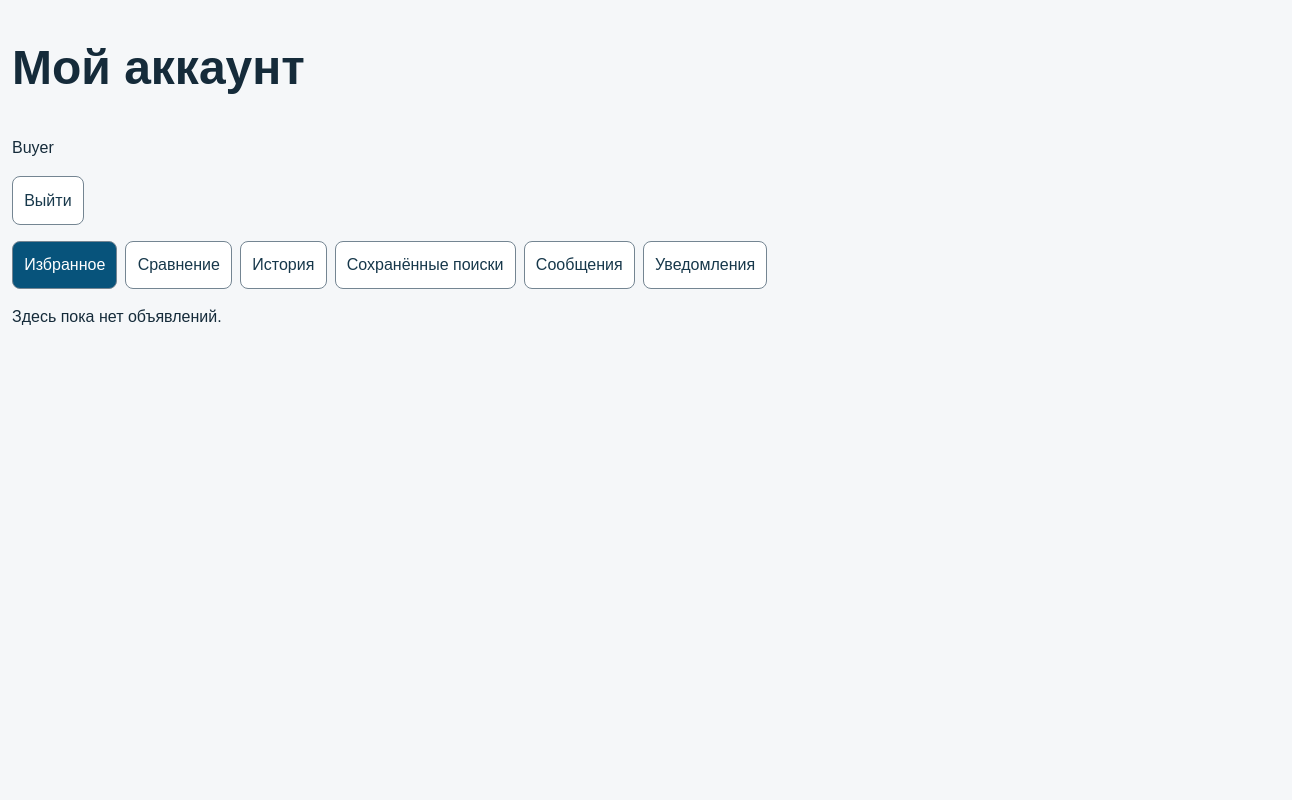
Test: Selected thread pagination appends older messages and consumes its cursor
The image size is (1292, 800).
Expected: the text "Buyer" is shown, [12, 139, 54, 156]
Click the button "Сообщения". click: (579, 265)
box: [524, 241, 635, 289]
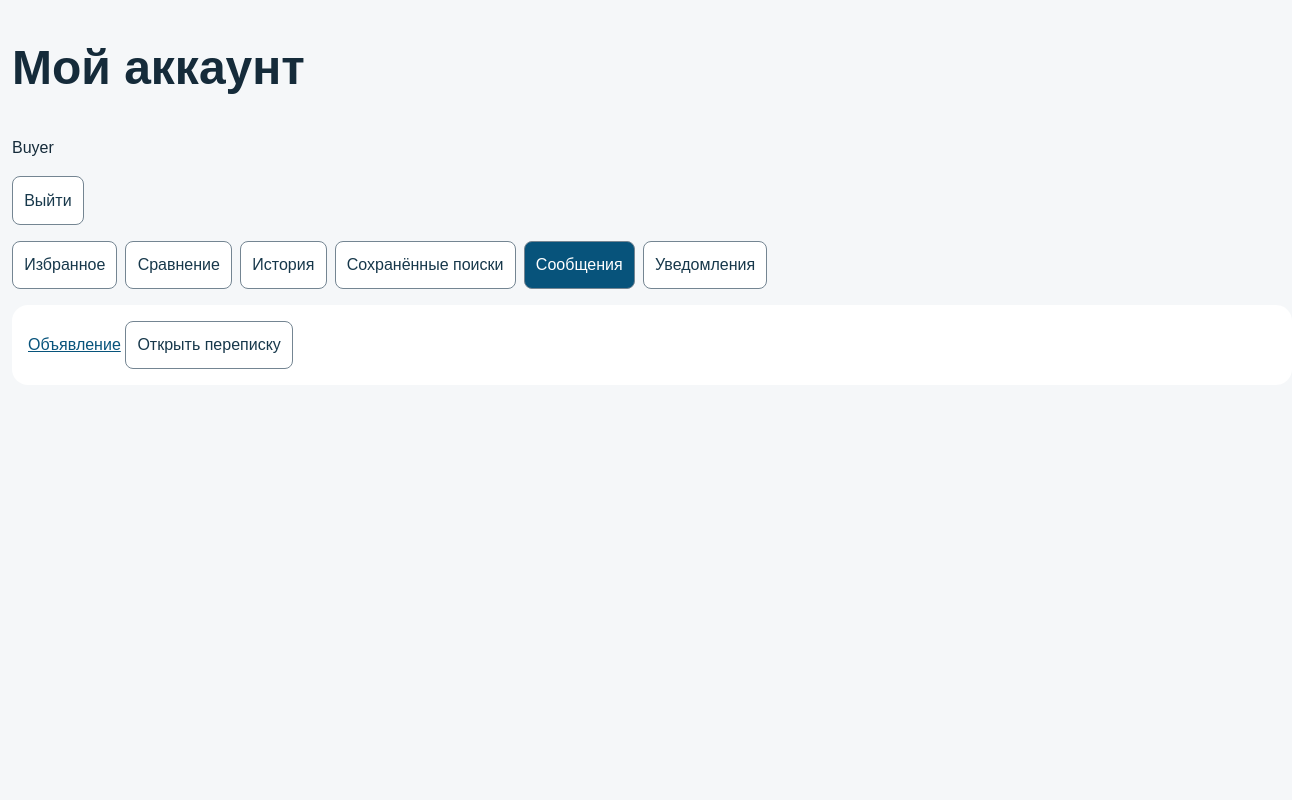
Click the button "Открыть переписку". click: (209, 345)
box: [125, 321, 293, 370]
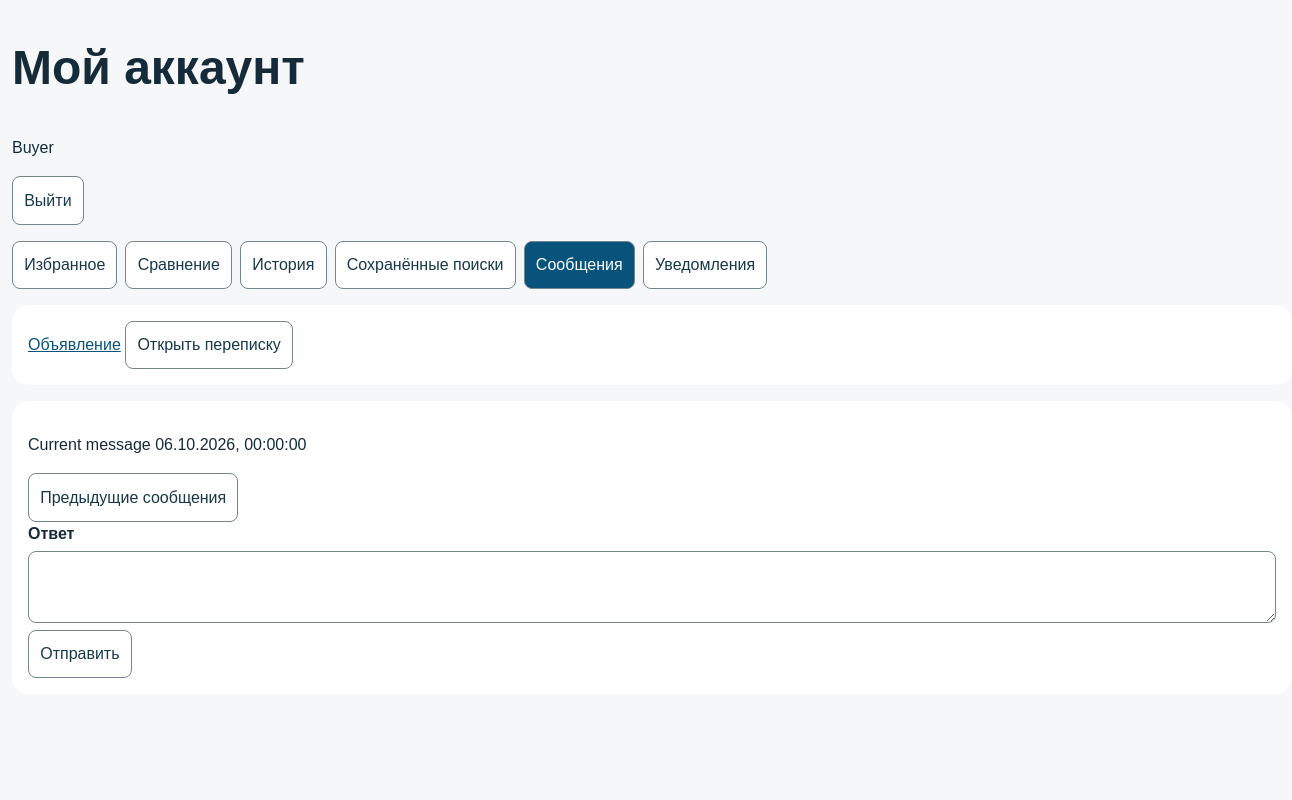
Expected: the text "Current message" is shown, [28, 436, 151, 453]
Click the button "Предыдущие сообщения". click: (133, 498)
box: [28, 473, 238, 522]
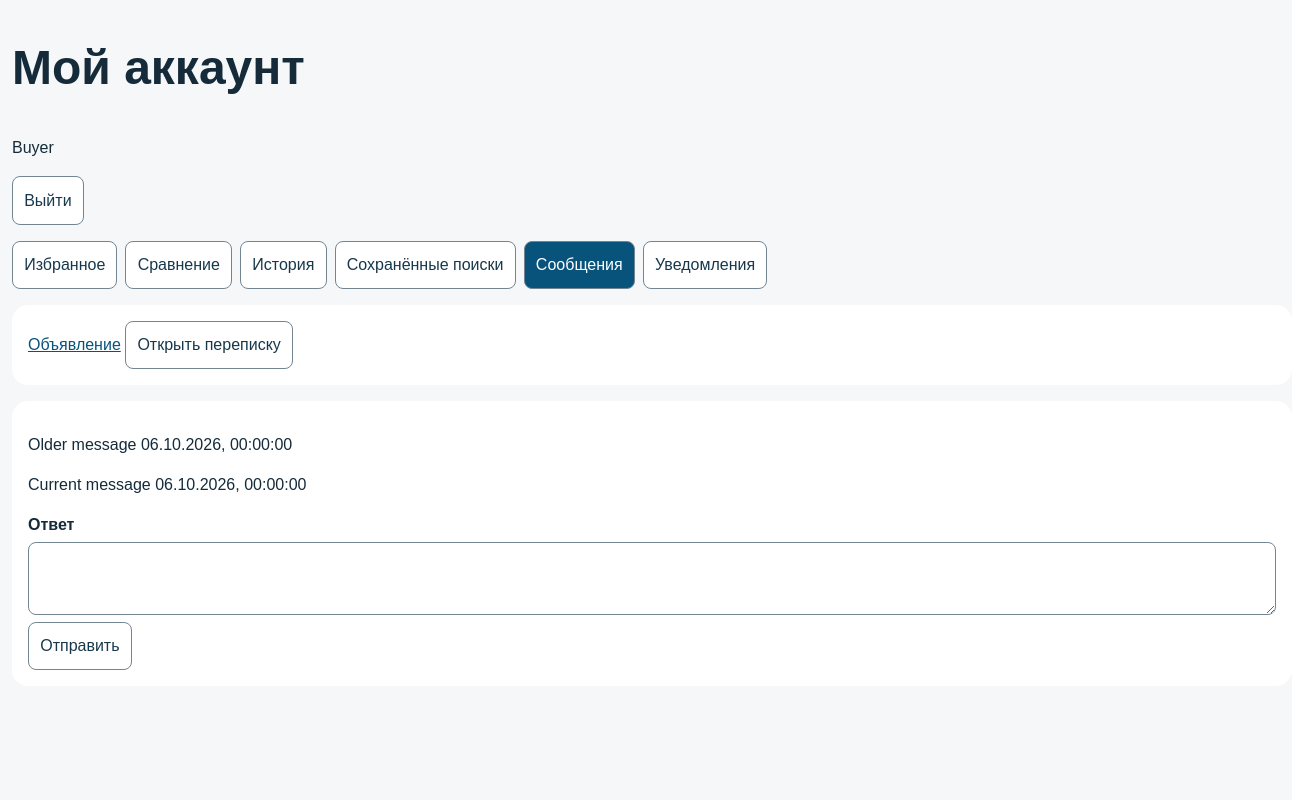
Expected: the text "Current message" is shown, [28, 476, 151, 493]
Expected: the text "Older message" is shown, [28, 436, 136, 453]
Expected: the button "Предыдущие сообщения" is gone
